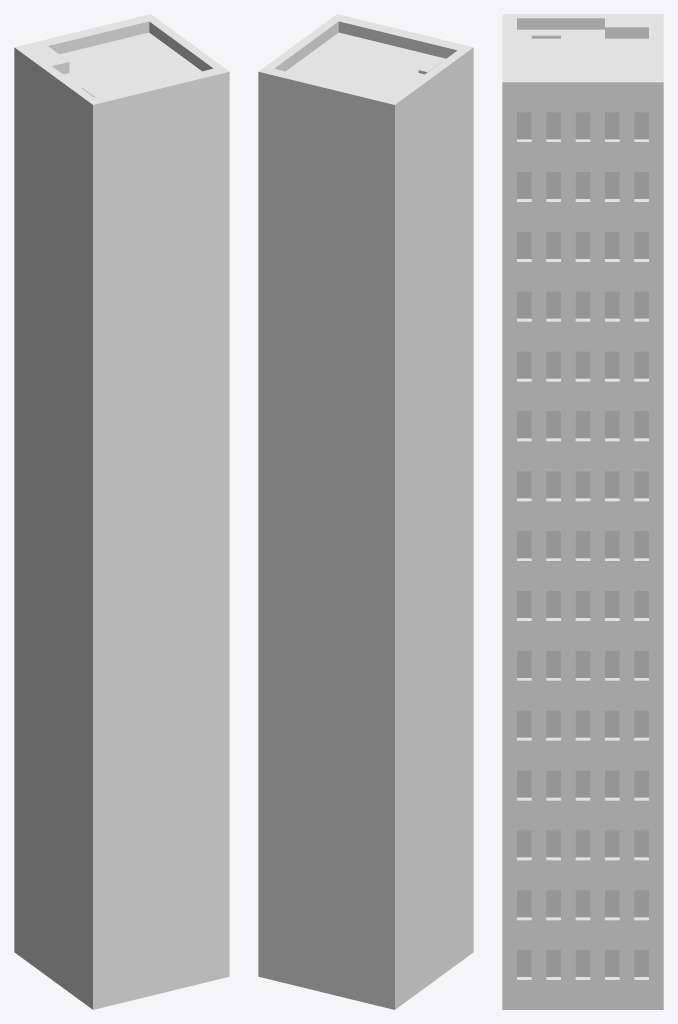
Rendered from Wolkenkratzer.fbx.
The picture shows the model from 3 angles, left to right: view 1: azimuth 30°, elevation 25°; view 2: azimuth 150°, elevation 25°; view 3: azimuth 270°, elevation 25°; orthographic projection. The views are drawn at different scales.
Visible parts, largest first — view 1: Cube; view 2: Cube; view 3: Cube, Cube.001.
Part boxes in pixels (box(x1,y1,x2,y2)): Cube: box(14, 14, 229, 1009); Cube: box(258, 14, 473, 1009); Cube: box(502, 14, 663, 1009); Cube.001: box(517, 112, 648, 976).
Size of the model in its own units: 200 by 1267 by 200.
2 materials, 1 textured.
